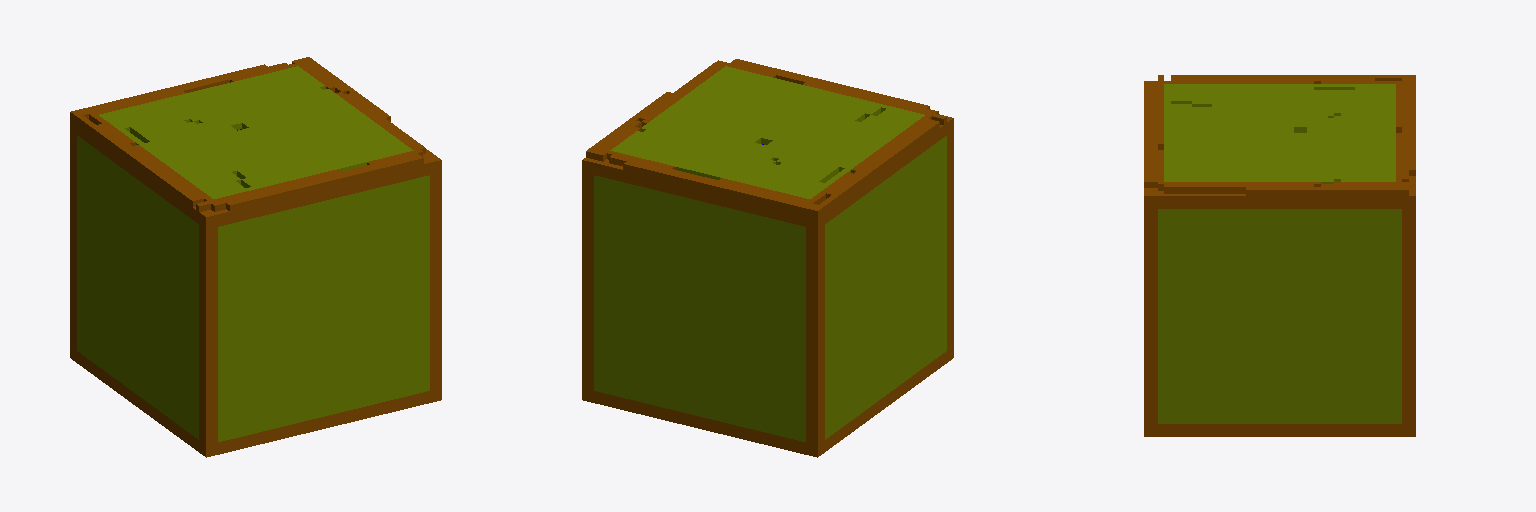
3 renders of one model, left to right at view 1: azimuth 30°, elevation 25°; view 2: azimuth 150°, elevation 25°; view 3: azimuth 270°, elevation 25°, orthographic.
Parts seen in each view (by area): view 1: object 1; view 2: object 1; view 3: object 1.
Part boxes in pixels (left/top/right/bottom): object 1: left=70, top=57, right=441, bottom=457; object 1: left=582, top=59, right=953, bottom=457; object 1: left=1144, top=75, right=1415, bottom=436.
Size of the model in its own units: 4 by 4 by 4.
1 materials, 1 textured.